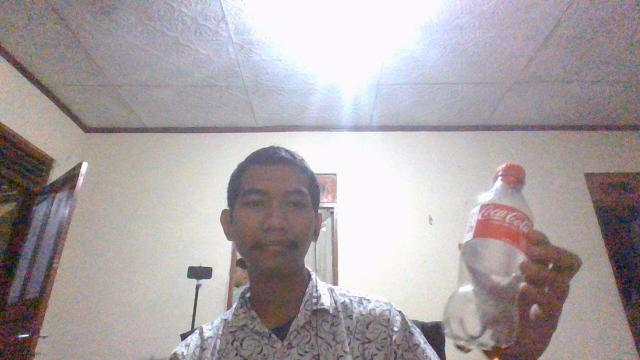coca-cola: (455, 161, 551, 357)
